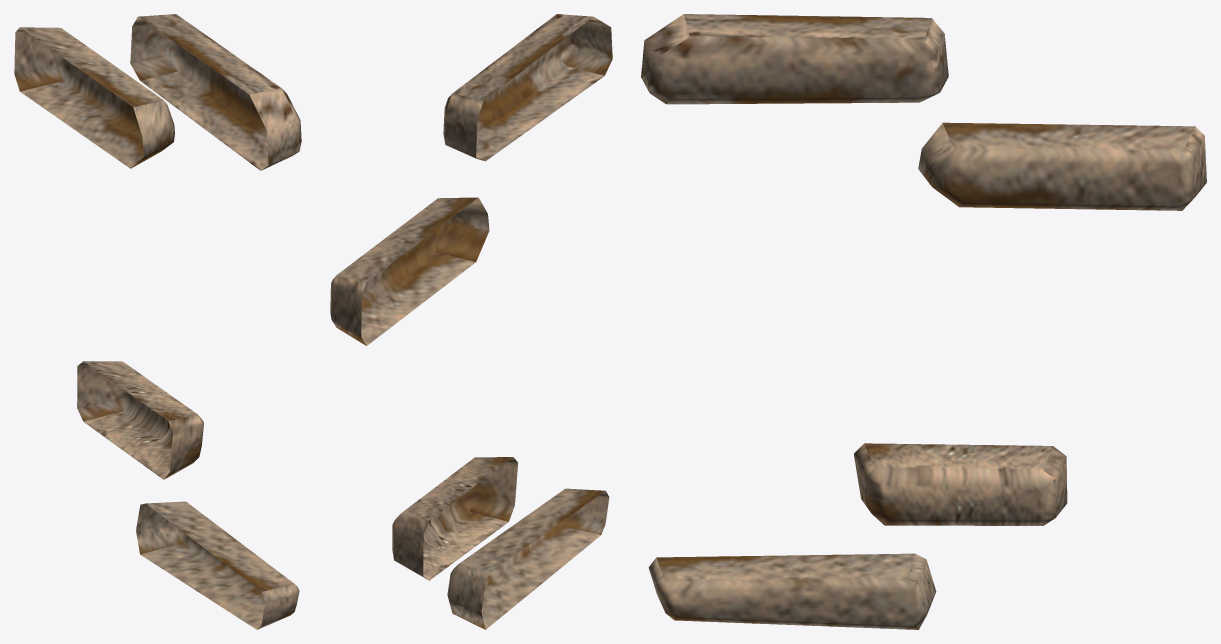
The model's file is lower_city_wall_climb_03.fbx.
3 views of the same model, side by side, from view 1: azimuth 30°, elevation 25°; view 2: azimuth 150°, elevation 25°; view 3: azimuth 270°, elevation 25° (orthographic). The views are drawn at different scales.
Parts seen in each view (by area): view 1: lower_city_wall_climb_03; view 2: lower_city_wall_climb_03; view 3: lower_city_wall_climb_03.
Boxes of the visible parts, <box> form: lower_city_wall_climb_03: <box>14,14,301,629</box>; lower_city_wall_climb_03: <box>330,14,612,629</box>; lower_city_wall_climb_03: <box>641,14,1206,629</box>.
Size of the model in its own units: 0.1207 by 1.47 by 1.25.
